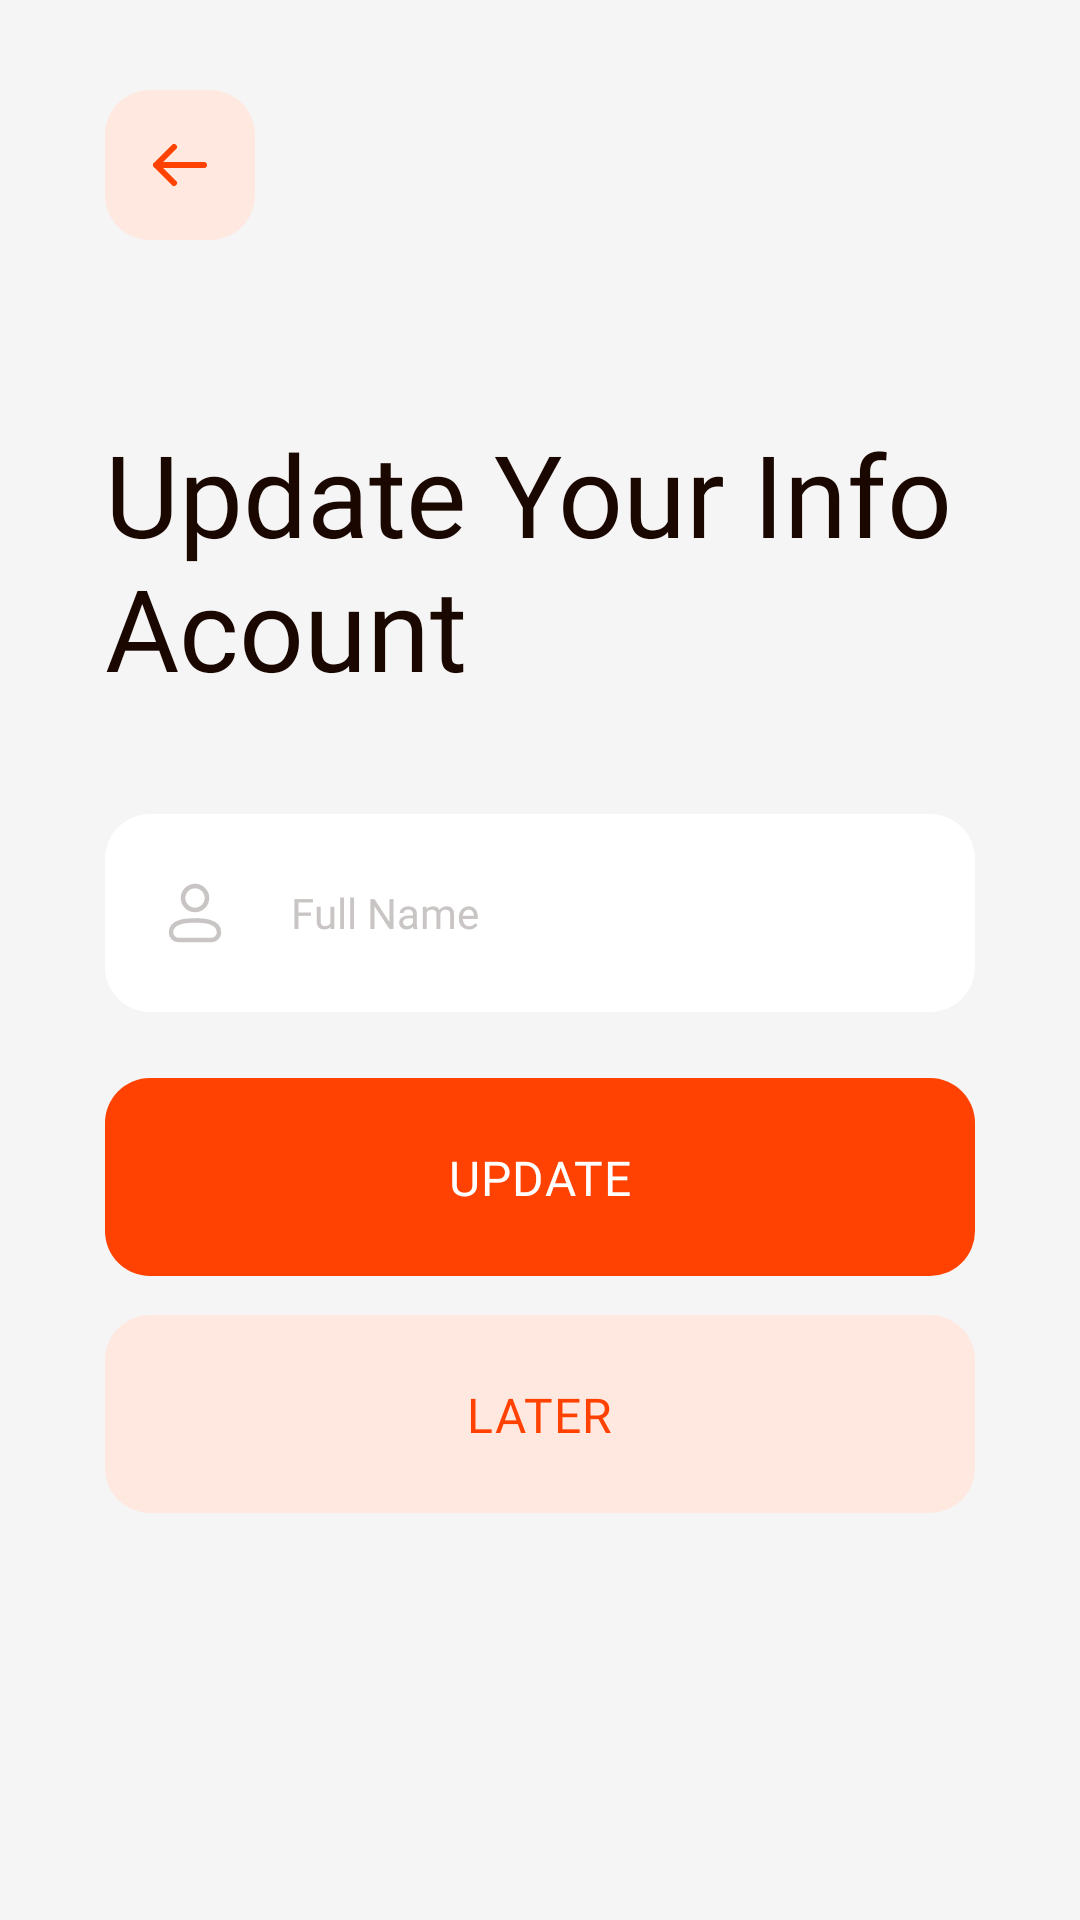

Icons on this 1080w x 1920h Android screen, each with the point to tap as (x=x, y=y):
back: (x=180, y=165)
